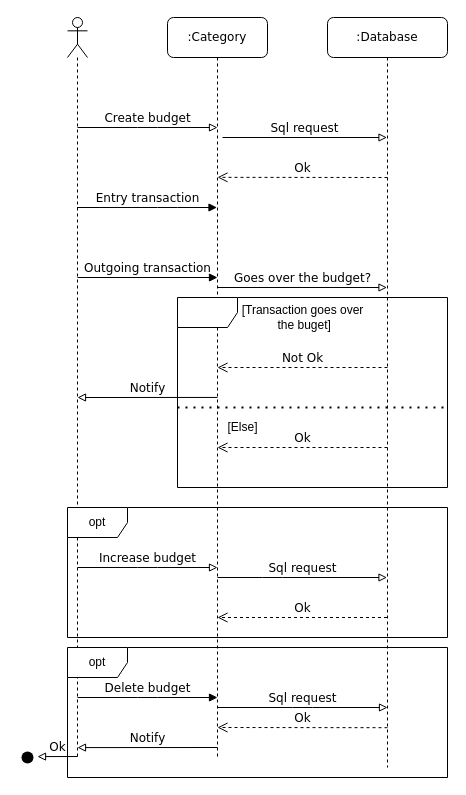
The diagram is 466 pixels wide and 795 high, and some of its shapes have lost their labels. The shapes that lost their labels are listed below. From the top down, each one's box as (x1, y1, x2, y2) in pixels, then its label:
(66, 16, 88, 758): User
(176, 296, 448, 488): alt
